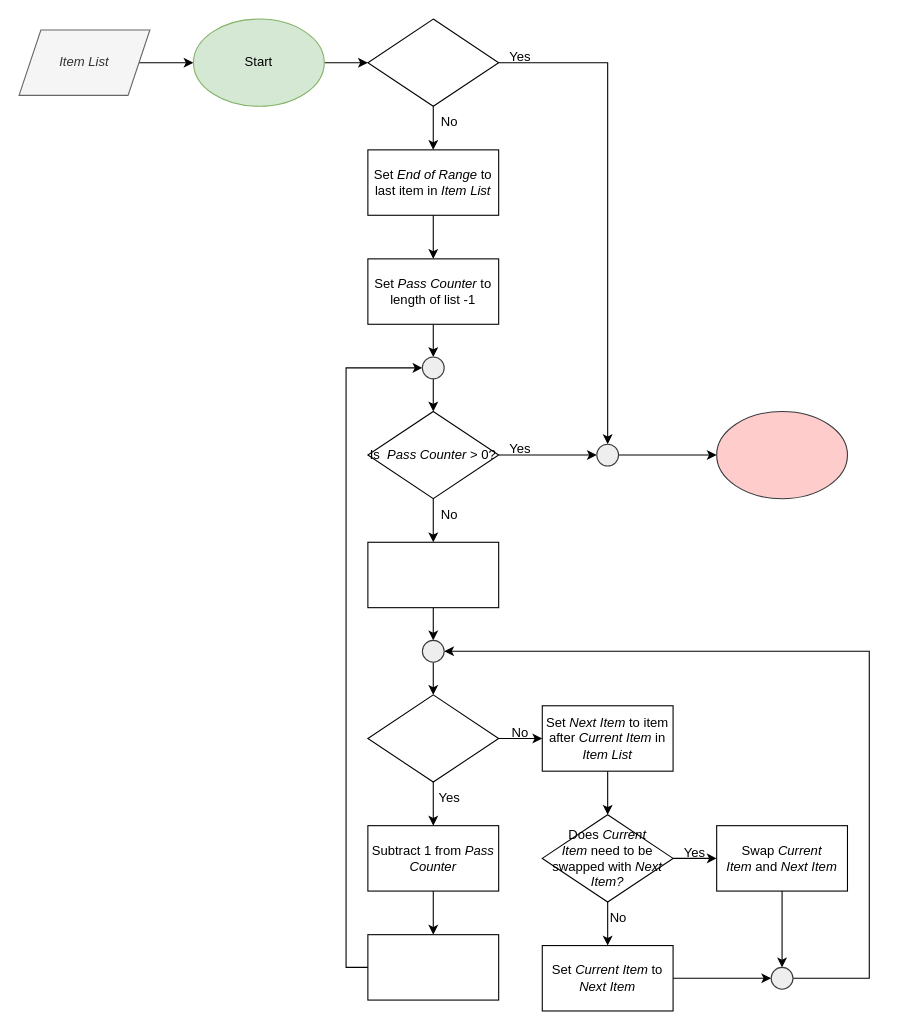
The diagram is 897 pixels wide and 1030 high, and some of its shapes have lost their labels. The shapes that lost their labels are listed below. From the top down, each one's box as (x1, y1, x2, y2) in pixels, then its label:
(367, 18, 499, 106): Is Item List already in order?
(716, 410, 847, 499): Stop
(367, 541, 499, 608): Set Current Item to first item in Item List
(367, 694, 499, 782): Is Current Item the End of Range?
(367, 934, 499, 1000): Set End of Range to one item closer to start of list
